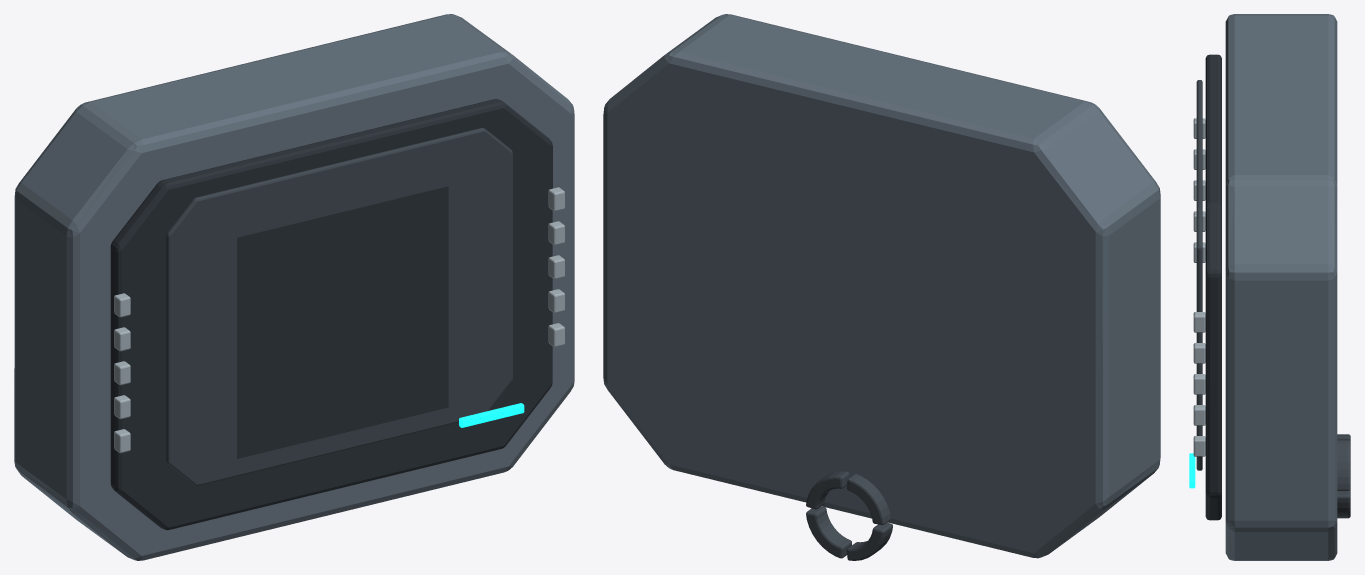
File: FZH_Skill_Node.glb
3 views of the same model, side by side, from view 1: azimuth 30°, elevation 25°; view 2: azimuth 150°, elevation 25°; view 3: azimuth 270°, elevation 25° (orthographic). The views are drawn at different scales.
Parts seen in each view (by area): view 1: Skill_Node_Frame, Node_Recess, Skill_Node_Face, Skill_Node_LogoPlane, Node_Technical_Grooves, Skill_Node_Indicator; view 2: Skill_Node_Frame, Connector_Node; view 3: Skill_Node_Frame, Skill_Node_Face, Node_Technical_Grooves, Node_Recess, Connector_Node, Skill_Node_Indicator.
Boxes of the visible parts, <box> form: Skill_Node_Frame: <box>14,14,574,560</box>; Node_Recess: <box>166,128,512,485</box>; Skill_Node_Face: <box>110,99,552,530</box>; Skill_Node_LogoPlane: <box>237,186,448,458</box>; Node_Technical_Grooves: <box>114,187,564,453</box>; Skill_Node_Indicator: <box>459,403,524,427</box>; Skill_Node_Frame: <box>603,14,1160,558</box>; Connector_Node: <box>806,471,892,560</box>; Skill_Node_Frame: <box>1225,14,1337,560</box>; Skill_Node_Face: <box>1205,54,1221,520</box>; Node_Technical_Grooves: <box>1193,118,1205,456</box>; Node_Recess: <box>1196,80,1202,470</box>; Connector_Node: <box>1337,434,1350,518</box>; Skill_Node_Indicator: <box>1189,453,1195,488</box>.
Size of the model in its own units: 0.72 by 0.6209 by 0.217.
